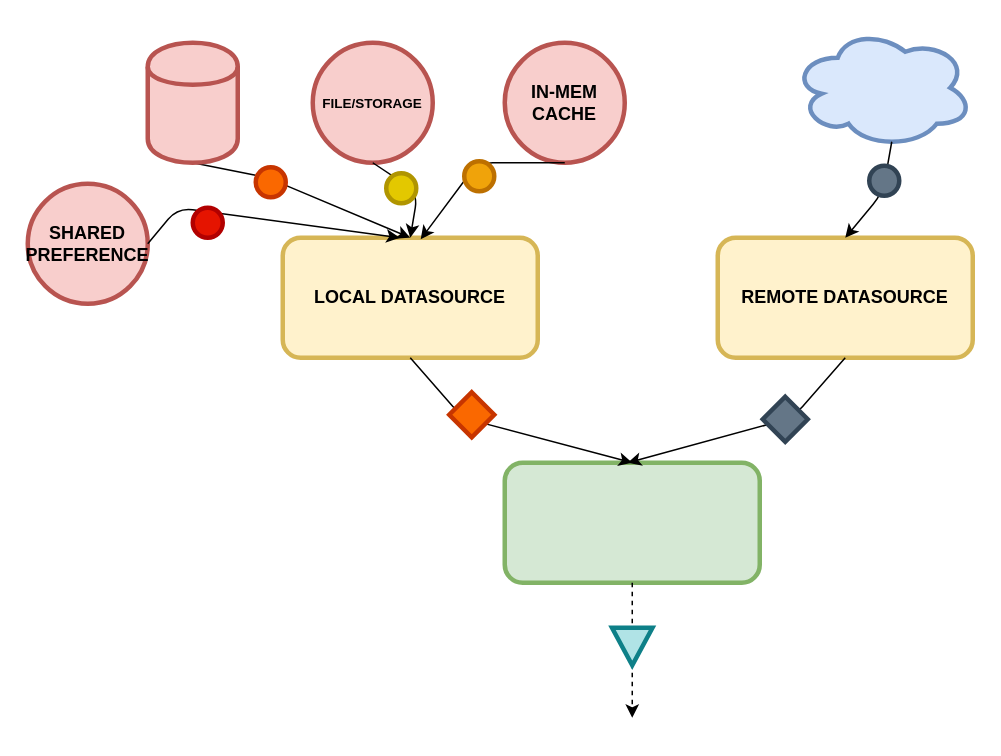
The diagram is 1001 pixels wide and 756 high, and some of its shapes have lost their labels. Each missing label, with the centre of its shape:
"DB" belongs at (x=192, y=102).
"REPOSITORY" belongs at (x=631, y=522).
"REST/SOAP API" belongs at (x=882, y=87).
